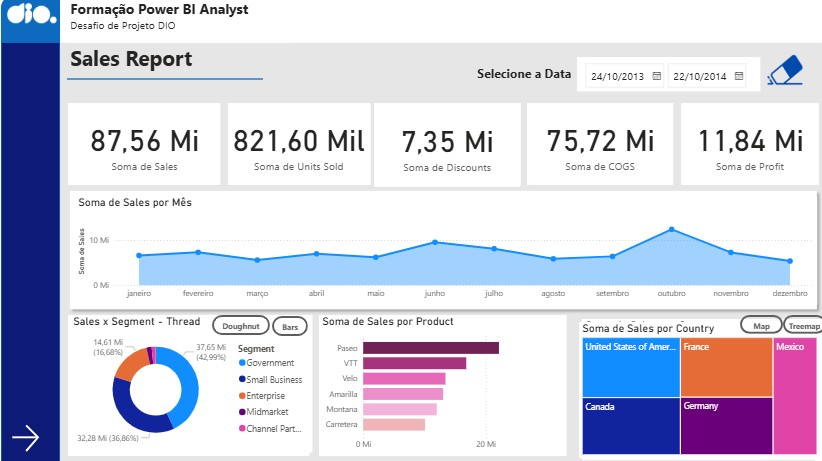

What the dashboard file says about the page in this screenshot:
{"tool":"powerbi","page":{"name":"Página 1","canvas":[1280,720],"ordinal":0},"visuals":[{"type":"shape","box":[10.8,0,1269.2,720],"z":0},{"type":"image","title":"Clean","box":[1173.6,82,86.3,64.4],"z":0,"group":"g2"},{"type":"shape","box":[112.1,97.9,301.5,58.5],"z":0,"group":"g5"},{"type":"shape","box":[114.1,163.9,233.5,126],"z":0,"group":"g1"},{"type":"clusteredBarChart","title":" Sales x Segment - Bars","fields":{"Category":["financials.Segment"],"Y":["Sum(financials.Sales)"]},"box":[115.4,490.7,370.8,214.5],"z":0,"group":"g4"},{"type":"treemap","title":"Soma de Sales por Country","fields":{"Group":["financials.Country"],"Values":["Sum(financials.Sales)"]},"box":[899.3,501.9,371.2,208.9],"z":0,"group":"g3"},{"type":"shape","box":[10.1,0,90.7,720.6],"z":1000},{"type":"textbox","box":[112,67,284.6,80],"z":1000,"group":"g5"},{"type":"slicer","fields":{"Values":["financials.Date"]},"box":[895.6,93.7,282.4,52.7],"z":1000,"group":"g2"},{"type":"shape","box":[361,163.9,218.4,126],"z":1000,"group":"g1"},{"type":"donutChart","title":"Sales x Segment - Thread","fields":{"Y":["Sum(financials.Sales)"],"Category":["financials.Segment"]},"box":[117.1,490.7,372.6,210.9],"z":1000,"group":"g4"},{"type":"textbox","box":[734.6,102.5,161,43.9],"z":2000,"group":"g2"},{"type":"shape","box":[592.8,163.9,218.4,126],"z":2000,"group":"g1"},{"type":"actionButton","title":"Botão - doughnut","box":[334.8,490.2,89.2,30.8],"z":2000,"group":"g4"},{"type":"actionButton","title":"Botão - treemap","box":[1213.8,491.4,66.2,28.7],"z":2000,"group":"g3"},{"type":"treemap","title":"Soma de Sales por Country","fields":{"Group":["financials.Country"],"Values":["Sum(financials.Sales)"]},"box":[904.6,496.9,370.8,216.9],"z":2000},{"type":"shape","box":[10.1,0,90.7,72.2],"z":3000},{"type":"actionButton","box":[1173.6,82,99.5,64.4],"z":3000,"group":"g2"},{"type":"shape","box":[826.3,163.9,218.4,126],"z":3000,"group":"g1"},{"type":"actionButton","title":"Botão - map","box":[1147.6,491.4,66.2,28.7],"z":3000,"group":"g3"},{"type":"actionButton","title":"Botão - Bars","box":[427.1,491.7,55.4,30.8],"z":3000,"group":"g4"},{"type":"image","box":[15.1,0,85.7,52.1],"z":4000},{"type":"shape","box":[1056.5,163.9,211.7,126],"z":4000,"group":"g1"},{"type":"shape","box":[100.8,0,1179.2,72.2],"z":5000},{"type":"textbox","box":[112.7,0,345.1,72.2],"z":6000},{"type":"group","id":"g1","title":"Cartões","box":[114.1,163.9,1154.6,125.9],"z":7000},{"type":"shape","box":[107.7,290.5,1167.2,199.9],"z":8000},{"type":"shape","box":[114.5,490.5,370.8,217],"z":9000},{"type":"shape","box":[500.7,490.5,381.1,217],"z":10000},{"type":"card","fields":{"Values":["Sum(financials.Sales)"]},"box":[115.6,163.9,232.7,125.9],"z":12000},{"type":"card","fields":{"Values":["Sum(financials.Units Sold)"]},"box":[360,163.9,218,125.9],"z":13000},{"type":"card","fields":{"Values":["Sum(financials.Discounts)"]},"box":[585.4,163.9,225.4,128.8],"z":14000},{"type":"card","fields":{"Values":["Sum(financials.COGS)"]},"box":[819.5,165.4,225.4,125.9],"z":15000},{"type":"card","fields":{"Values":["Sum(financials.Profit)"]},"box":[1056.6,163.9,212.2,125.9],"z":16000},{"type":"clusteredBarChart","fields":{"Y":["Sum(financials.Sales)"],"Category":["financials.Product"]},"box":[500,490.8,370.8,216.9],"z":17000},{"type":"areaChart","fields":{"Category":["financials.Date.Variation.Hierarquia de datas.Mês"],"Y":["Sum(financials.Sales)"]},"box":[124.8,307.6,1141.6,167.5],"z":18000},{"type":"group","id":"g2","title":"Filtro por data","box":[734.6,82,538.5,64.4],"z":19000},{"type":"group","id":"g3","title":"Sales x país","box":[898.5,490.8,381.5,220],"z":20000},{"type":"group","id":"g4","title":"Sales x Segmento","box":[115.4,490.2,374.3,215],"z":21000},{"type":"group","id":"g5","title":"Title report","box":[112,67,301.6,89.4],"z":22000},{"type":"actionButton","box":[22.2,654.5,71.8,53],"z":23000}]}

Visuals, with their boxes on the page's 1280x720 design canvas (x1, y1, x2, y2). These are canvas units, not pixel positions in the 822x461 screenshot, which may show the page scaled, cropped or inside an application window:
shape: box(11, 0, 1280, 720)
"Clean" image: box(1174, 82, 1260, 146)
shape: box(112, 98, 414, 156)
shape: box(114, 164, 348, 290)
" Sales x Segment - Bars" clusteredBarChart: box(115, 491, 486, 705)
"Soma de Sales por Country" treemap: box(899, 502, 1270, 711)
shape: box(10, 0, 101, 721)
textbox: box(112, 67, 397, 147)
slicer - financials.Date: box(896, 94, 1178, 146)
shape: box(361, 164, 579, 290)
"Sales x Segment - Thread" donutChart: box(117, 491, 490, 702)
textbox: box(735, 102, 896, 146)
shape: box(593, 164, 811, 290)
"Botão - doughnut" actionButton: box(335, 490, 424, 521)
"Botão - treemap" actionButton: box(1214, 491, 1280, 520)
"Soma de Sales por Country" treemap: box(905, 497, 1275, 714)
shape: box(10, 0, 101, 72)
actionButton: box(1174, 82, 1273, 146)
shape: box(826, 164, 1045, 290)
"Botão - map" actionButton: box(1148, 491, 1214, 520)
"Botão - Bars" actionButton: box(427, 492, 482, 522)
image: box(15, 0, 101, 52)
shape: box(1056, 164, 1268, 290)
shape: box(101, 0, 1280, 72)
textbox: box(113, 0, 458, 72)
"Cartões" group: box(114, 164, 1269, 290)
shape: box(108, 290, 1275, 490)
shape: box(114, 490, 485, 708)
shape: box(501, 490, 882, 708)
card - Sum(financials.Sales): box(116, 164, 348, 290)
card - Sum(financials.Units Sold): box(360, 164, 578, 290)
card - Sum(financials.Discounts): box(585, 164, 811, 293)
card - Sum(financials.COGS): box(820, 165, 1045, 291)
card - Sum(financials.Profit): box(1057, 164, 1269, 290)
clusteredBarChart - Sum(financials.Sales) x financials.Product: box(500, 491, 871, 708)
areaChart - financials.Date.Variation.Hierarquia de datas.Mês x Sum(financials.Sales): box(125, 308, 1266, 475)
"Filtro por data" group: box(735, 82, 1273, 146)
"Sales x país" group: box(898, 491, 1280, 711)
"Sales x Segmento" group: box(115, 490, 490, 705)
"Title report" group: box(112, 67, 414, 156)
actionButton: box(22, 654, 94, 708)
